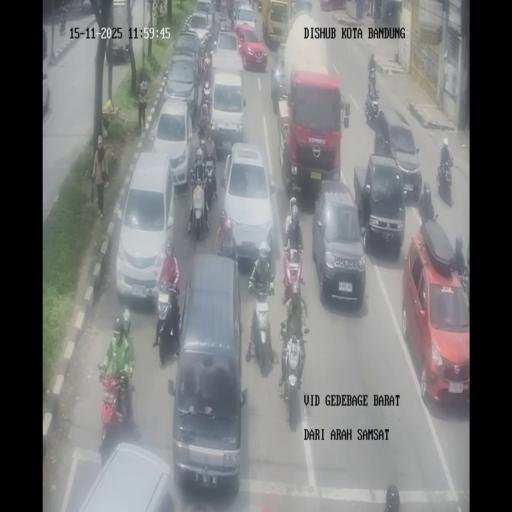3: (280, 66, 344, 200), (261, 0, 293, 49), (106, 1, 131, 63)
car: (170, 254, 246, 493), (402, 225, 469, 407), (116, 150, 176, 304), (69, 441, 180, 509), (312, 182, 366, 306), (221, 141, 274, 266), (372, 106, 422, 200), (209, 72, 246, 158), (164, 56, 199, 118), (210, 29, 243, 77), (271, 44, 287, 112), (173, 30, 202, 65), (234, 2, 256, 35), (194, 0, 213, 26), (290, 0, 313, 20), (42, 73, 50, 115), (80, 0, 92, 12)
truck: (98, 357, 135, 453), (245, 280, 277, 376), (280, 331, 307, 429), (152, 280, 181, 361), (282, 244, 305, 312), (188, 173, 210, 241), (437, 156, 454, 204), (217, 227, 239, 263), (364, 82, 380, 126), (204, 158, 218, 204), (418, 182, 434, 222), (199, 80, 212, 118), (196, 119, 208, 149), (459, 262, 469, 298), (201, 52, 212, 84), (202, 29, 213, 56), (219, 10, 231, 32), (368, 53, 376, 78), (182, 15, 192, 33), (58, 14, 66, 36), (212, 0, 223, 12), (230, 11, 236, 31), (252, 0, 258, 16)
